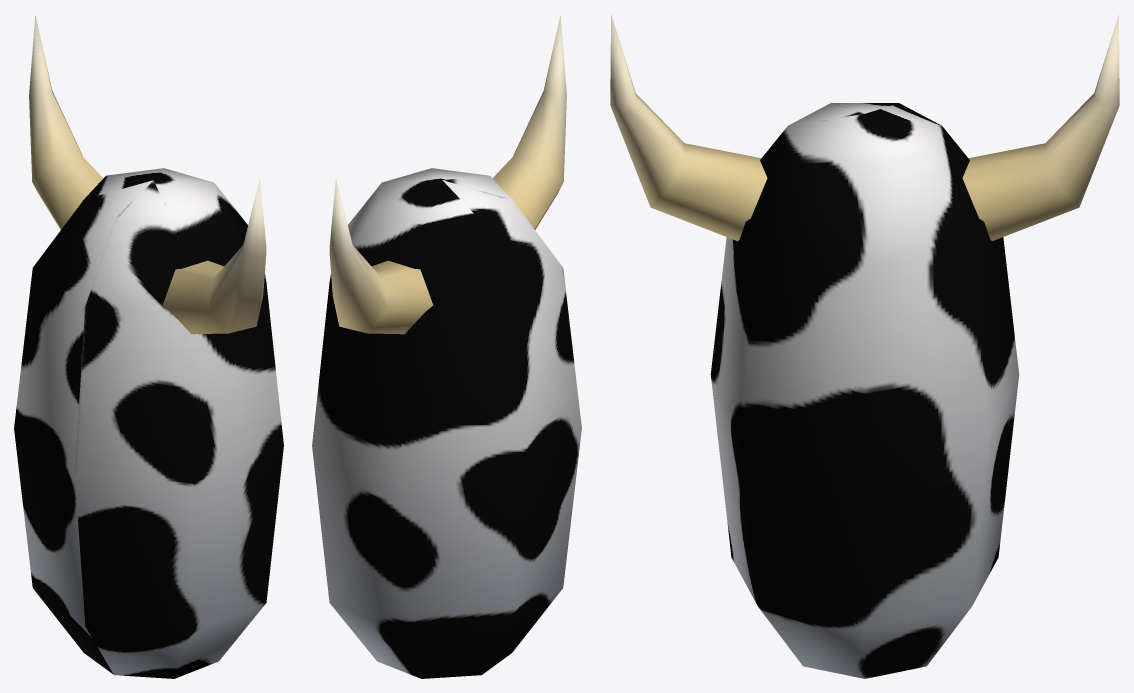
Rendered from Encombrant_Vache_FBX.fbx.
3 views of the same model, side by side, from view 1: azimuth 30°, elevation 25°; view 2: azimuth 150°, elevation 25°; view 3: azimuth 270°, elevation 25° (orthographic). The views are drawn at different scales.
Parts seen in each view (by area): view 1: Encombrant_Vache; view 2: Encombrant_Vache; view 3: Encombrant_Vache.
Boxes of the visible parts, x1,y1,x2,y2 form: Encombrant_Vache: (14, 15, 283, 678); Encombrant_Vache: (312, 15, 581, 678); Encombrant_Vache: (610, 14, 1119, 678).
Bounding box in the file's own units: 37.68 × 89.54 × 63.82.
